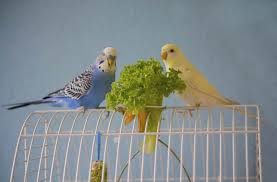budgie: (4, 46, 119, 111), (160, 43, 245, 112)
